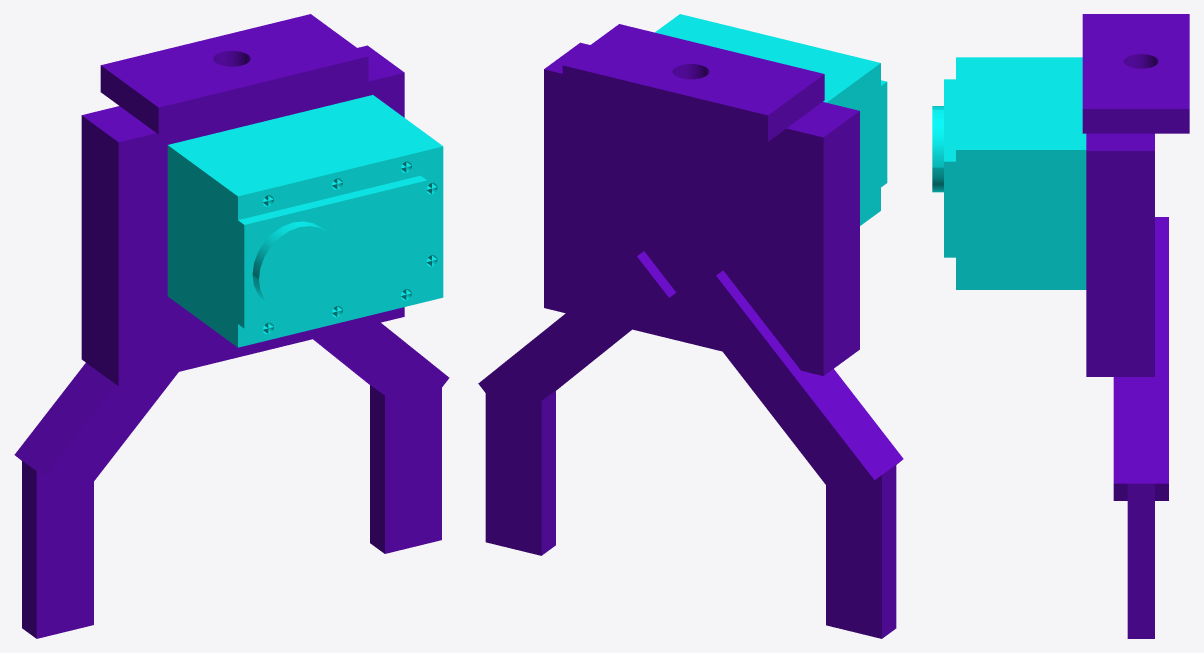
The model's file is gripper.dae.
3 renders of one model, left to right at view 1: azimuth 30°, elevation 25°; view 2: azimuth 150°, elevation 25°; view 3: azimuth 270°, elevation 25°, orthographic. The views are drawn at different scales.
Visible parts, largest first — view 1: group_1 (×3), MX-28T, group_2; view 2: group_1 (×3), MX-28T; view 3: group_1 (×3), MX-28T, group_2.
Boxes of the visible parts, left/top/right/bottom form: group_1 (×3): left=14, top=14, right=449, bottom=638; MX-28T: left=167, top=95, right=443, bottom=347; group_2: left=252, top=221, right=339, bottom=313; group_1 (×3): left=478, top=24, right=903, bottom=638; MX-28T: left=655, top=14, right=887, bottom=225; group_1 (×3): left=1082, top=14, right=1189, bottom=638; MX-28T: left=944, top=57, right=1086, bottom=289; group_2: left=932, top=106, right=943, bottom=192.
Size of the model in its own units: 3.93 by 2.34 by 4.87.
